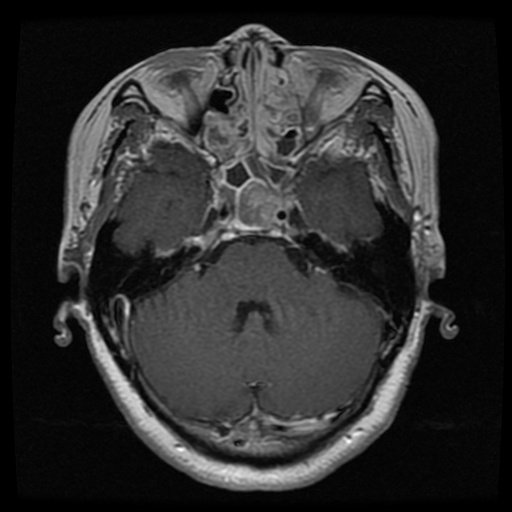pituitary: (235, 179, 279, 231)
